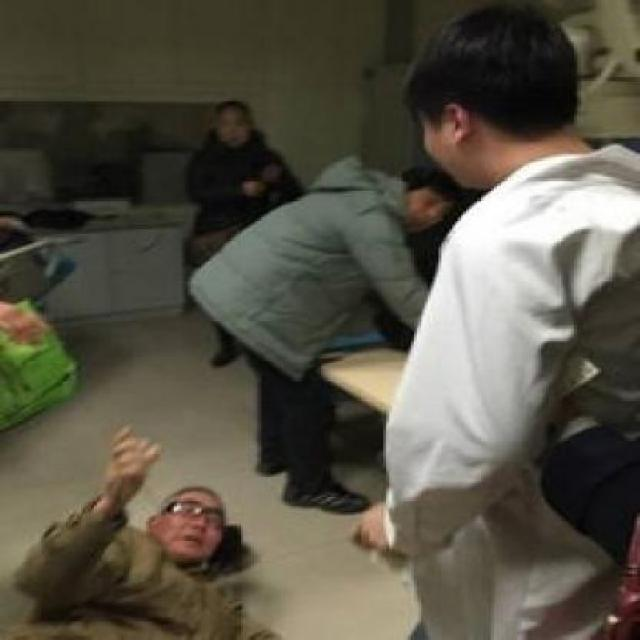fall: (0, 398, 309, 638)
